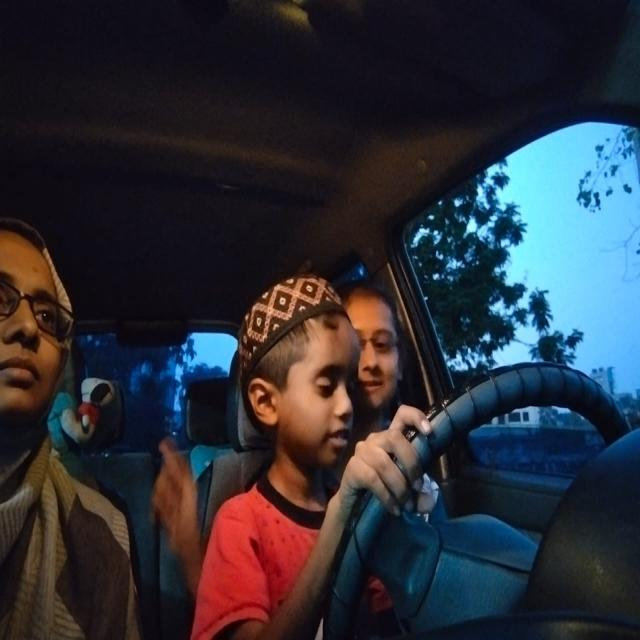child: (240, 276, 361, 476)
person: (0, 208, 81, 460), (344, 260, 410, 412)
